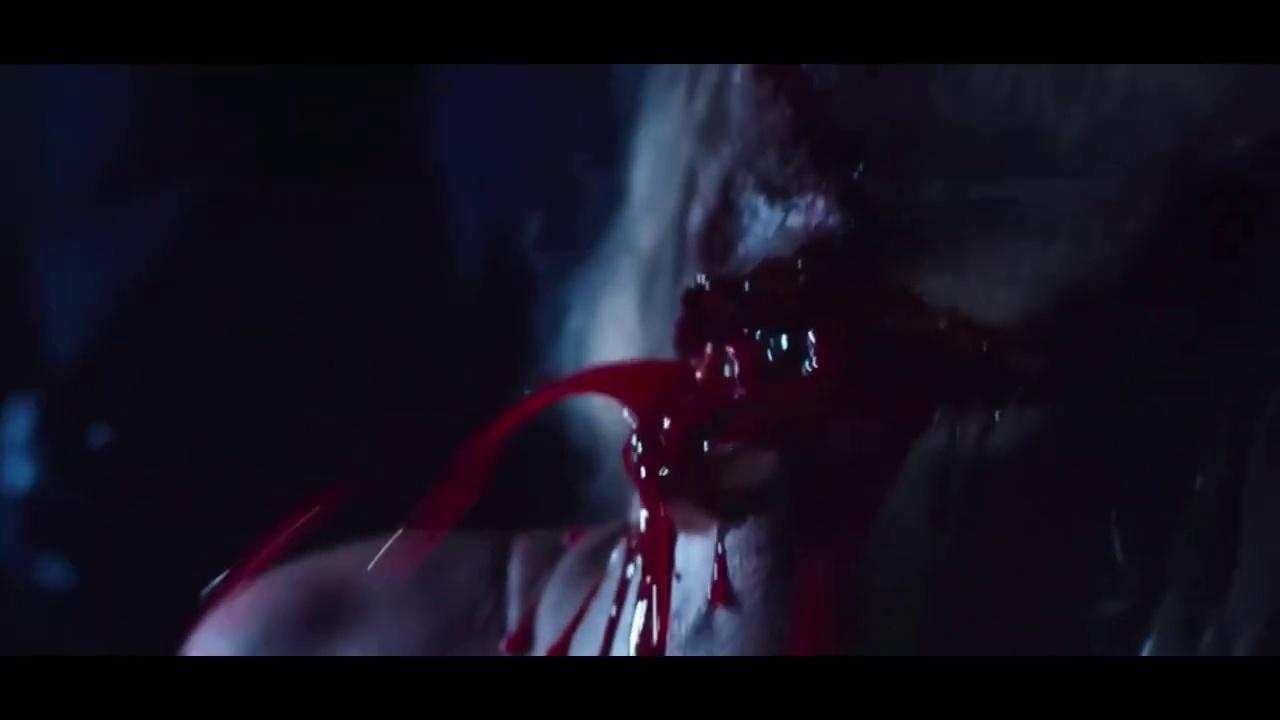Fire: (369, 278, 785, 654), (201, 491, 337, 597), (789, 560, 835, 654), (763, 333, 833, 383), (548, 599, 588, 655), (502, 615, 535, 655)
